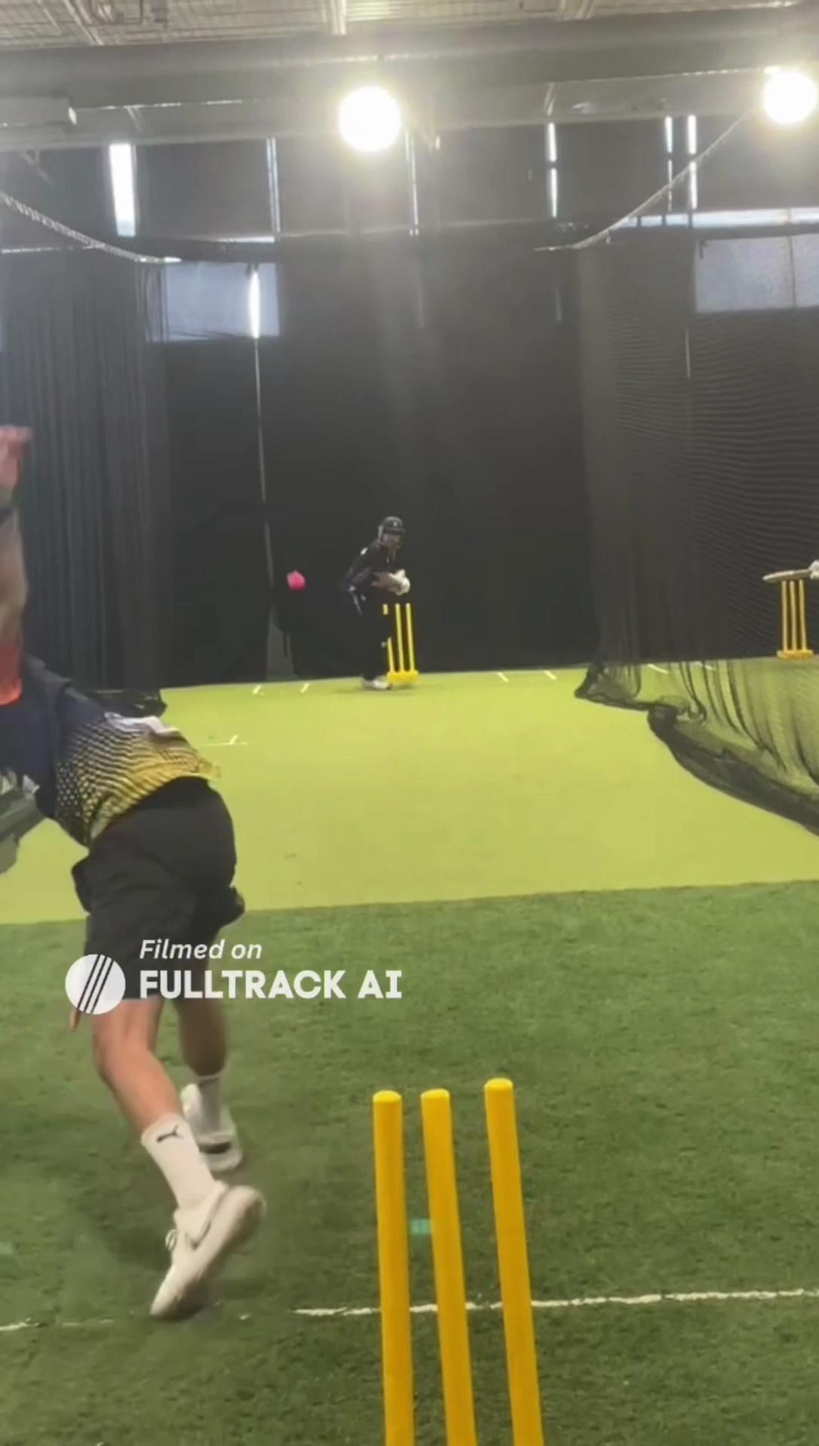ball: (283, 568, 307, 591)
